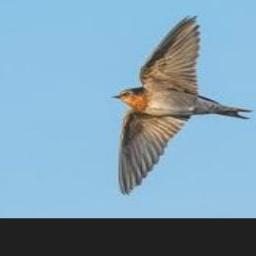Swallow: (111, 14, 251, 196)
